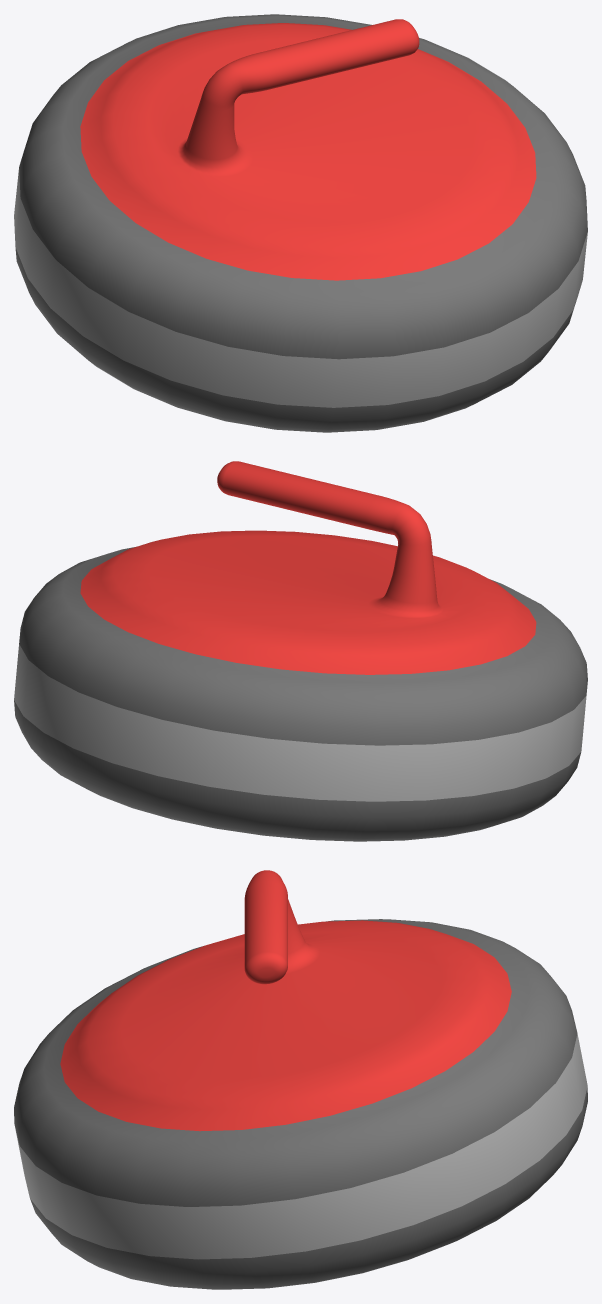
File: curling_stone.glb
The picture shows the model from 3 angles, top to bottom: view 1: azimuth 30°, elevation 25°; view 2: azimuth 150°, elevation 25°; view 3: azimuth 270°, elevation 25°; orthographic projection.
Parts seen in each view (by area): view 1: Cylinder.479; view 2: Cylinder.479; view 3: Cylinder.479.
Part boxes in pixels (<box>): Cylinder.479: <box>14,14,587,432</box>; Cylinder.479: <box>14,461,587,841</box>; Cylinder.479: <box>14,870,587,1289</box>.
Size of the model in its own units: 2.32 by 1.37 by 2.33.
Materials: 1 (1 with a texture image).
